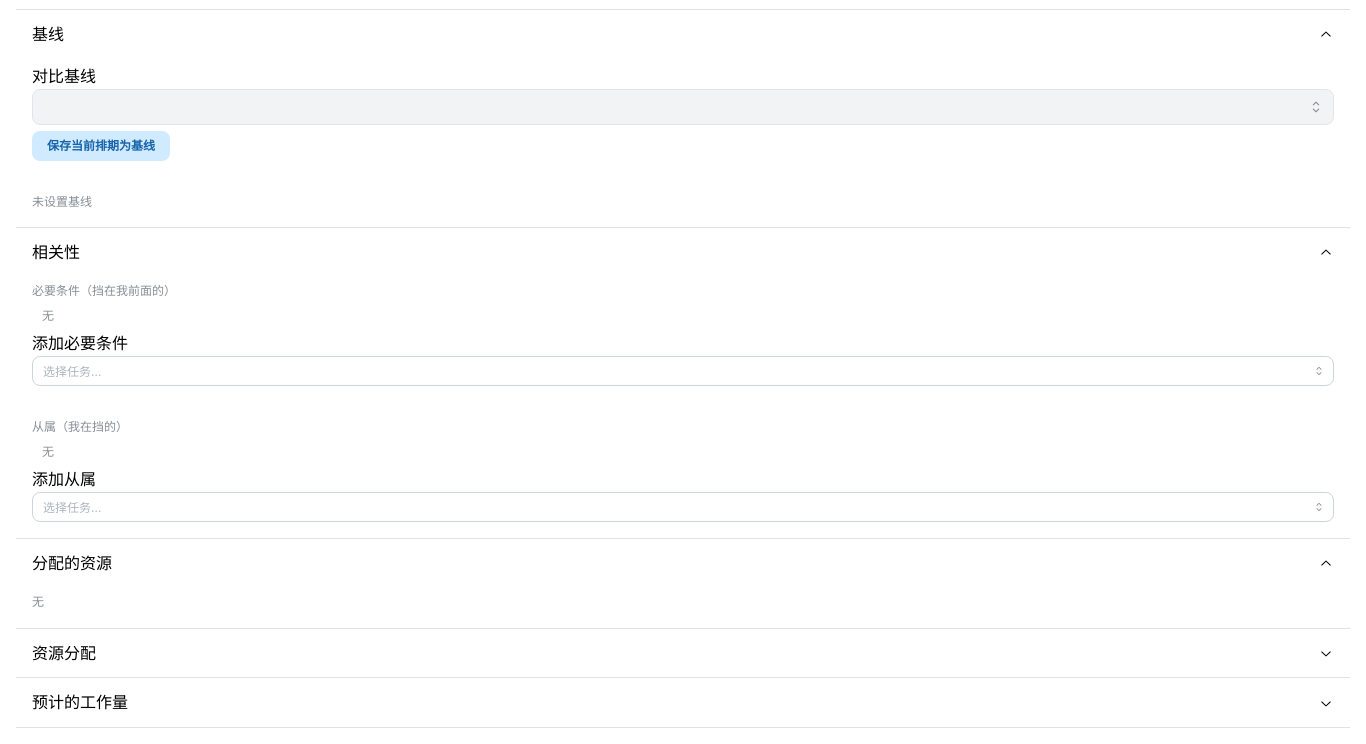
Test: Inspector 任务面板的 7 个分组 › 「预计的工作量」占位组同样是只读事实块，无 NumberInput
The image size is (1366, 744).
(page scrolled)
Click the button "预计的工作量" at (80, 702), box [16,678,1350,727]
(page scrolled)
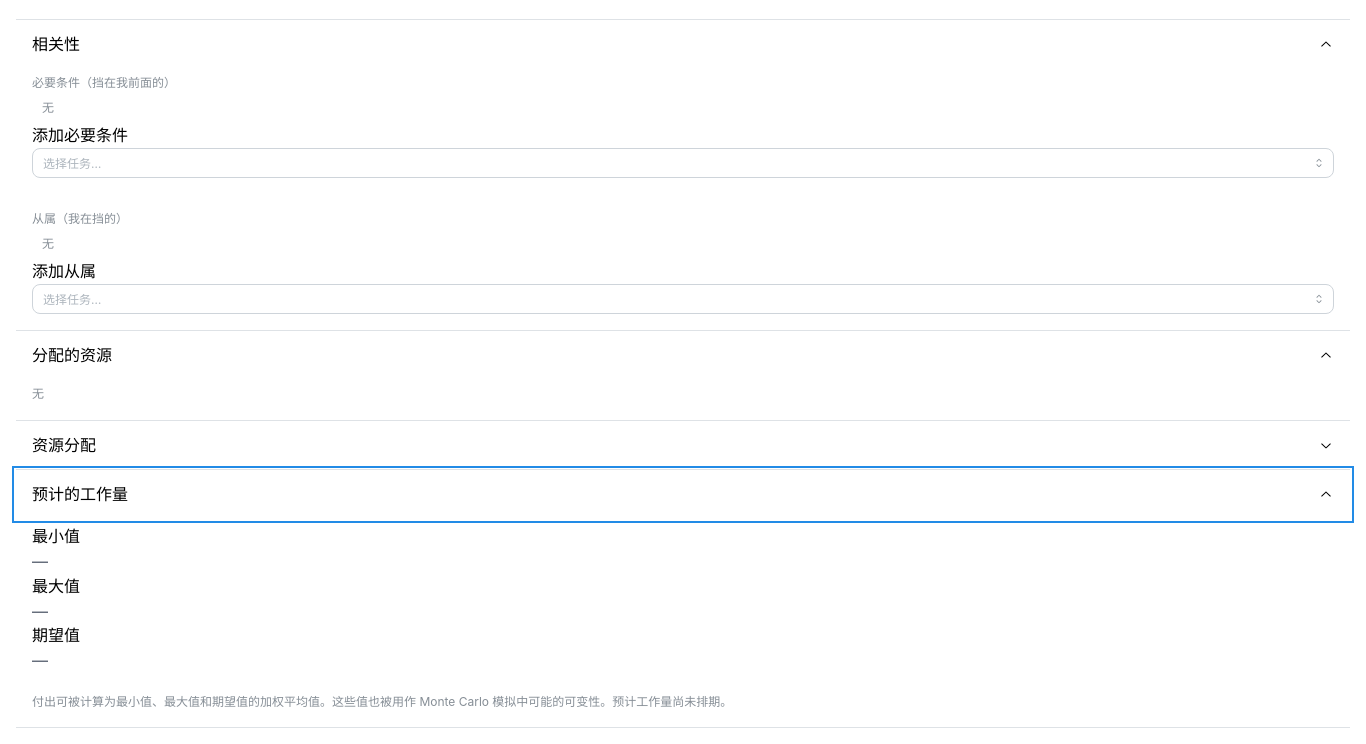
Result: the element with test id "placeholder-expected-effort" is shown at [32,526,732,709]
Result: the text "预计工作量尚未排期" is shown at [32,694,732,709]
Result: the text "最小值" is shown at [32,526,80,546]
